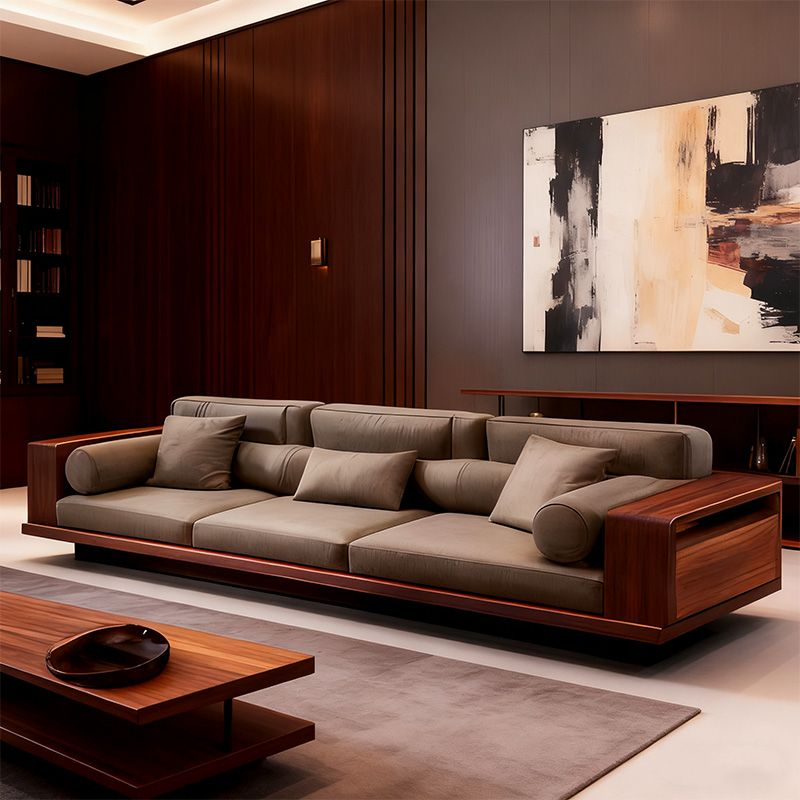3seatersofa: (22, 395, 781, 651)
backrest: (171, 396, 710, 516)
base: (23, 524, 779, 643)
leftarmrest: (604, 476, 780, 642)
leg: (76, 544, 718, 663)
pillow: (533, 476, 679, 562), (490, 435, 614, 529), (294, 448, 415, 510), (150, 415, 244, 490), (66, 436, 160, 494)
rightarmrest: (28, 428, 159, 525)
seat: (57, 486, 602, 611)
